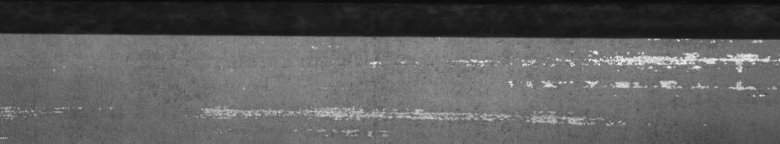kb: (4, 28, 776, 136)
